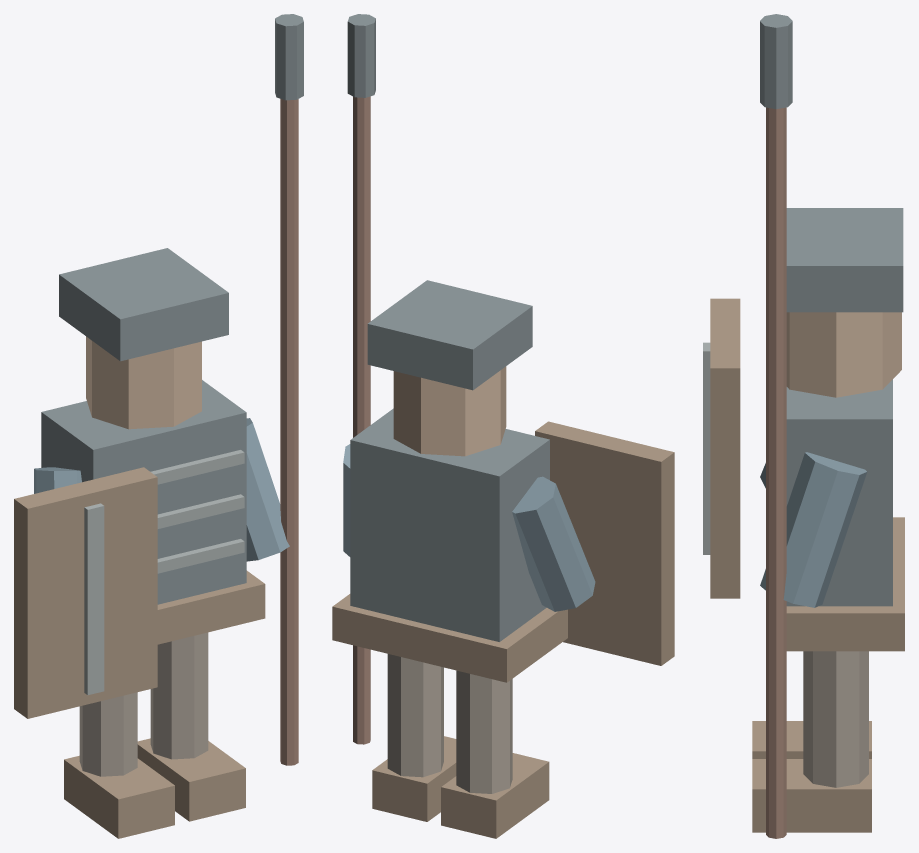
The model's file is infantry.glb.
3 views of the same model, side by side, from view 1: azimuth 30°, elevation 25°; view 2: azimuth 150°, elevation 25°; view 3: azimuth 270°, elevation 25° (orthographic). The views are drawn at different scales.
Size of the model in its own units: 1.29 by 3.1 by 0.675.
